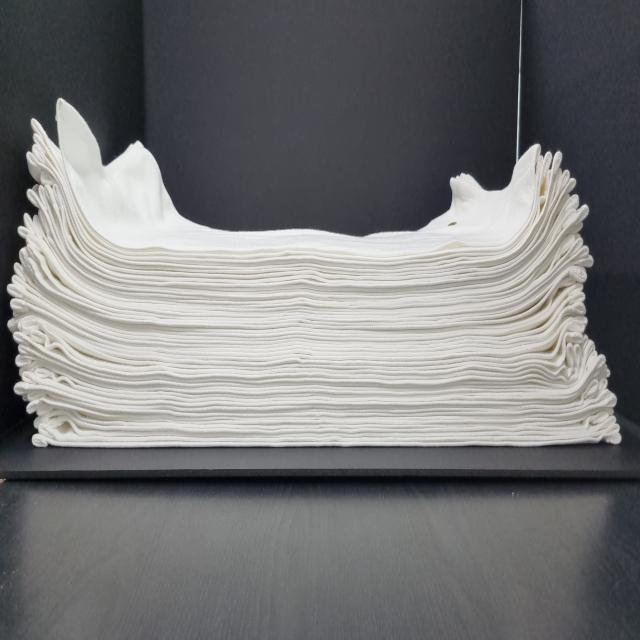50_towel_counts: (0, 93, 633, 461)
